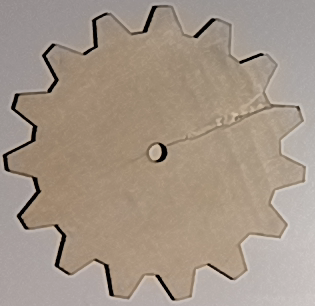Crack: (164, 87, 276, 149)
